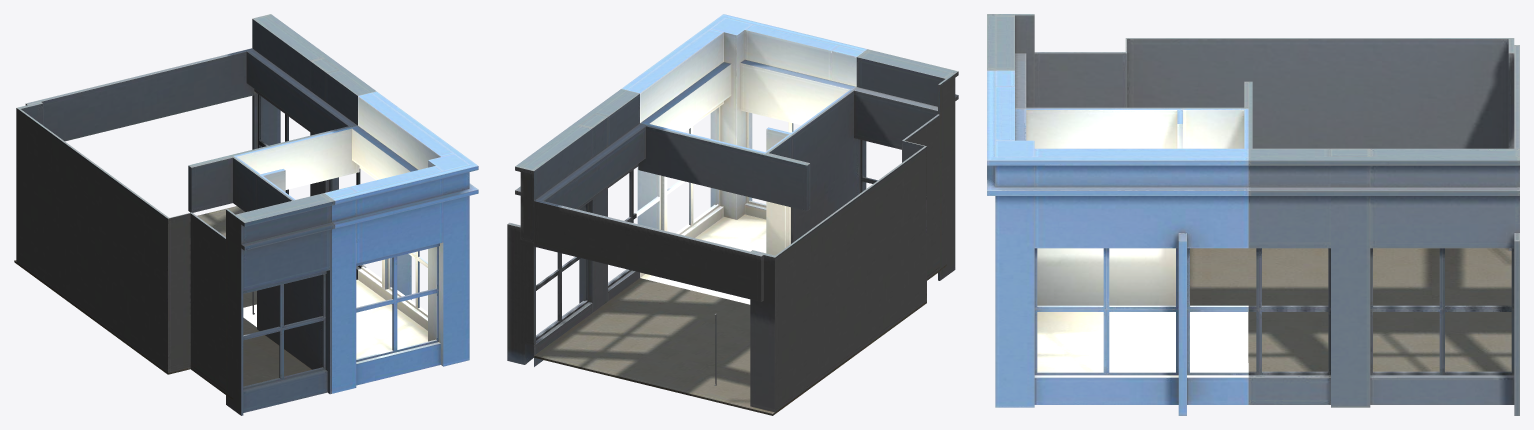
The picture shows the model from 3 angles, left to right: view 1: azimuth 30°, elevation 25°; view 2: azimuth 150°, elevation 25°; view 3: azimuth 270°, elevation 25°; orthographic projection. The views are drawn at different scales.
Parts seen in each view (by area): view 1: hc_2floor_room025_1, hc_2floor_room029_2; view 2: hc_2floor_room025_1, hc_2floor_room029_2; view 3: hc_2floor_room025_1, hc_2floor_room029_2.
Boxes of the visible parts, x1,y1,x2,y2 form: hc_2floor_room025_1: [14, 14, 376, 415]; hc_2floor_room029_2: [233, 91, 478, 393]; hc_2floor_room025_1: [507, 49, 958, 415]; hc_2floor_room029_2: [621, 14, 867, 304]; hc_2floor_room025_1: [987, 14, 1519, 415]; hc_2floor_room029_2: [987, 70, 1248, 415].
Bounding box in the file's own units: 0.7 × 0.4943 × 0.9525.
Materials: 2 (2 with a texture image).
